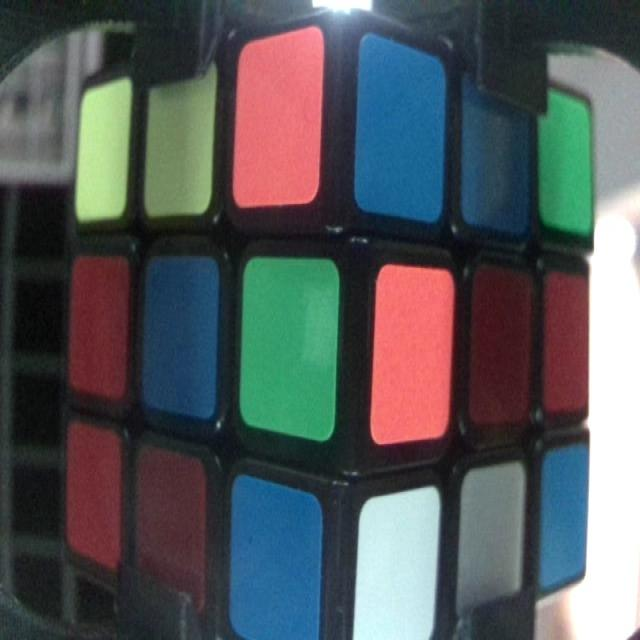b: (361, 40, 443, 223), (233, 478, 320, 639), (148, 256, 218, 414), (463, 74, 527, 224), (545, 455, 590, 581)
g: (242, 264, 335, 436), (541, 96, 592, 230)
o: (238, 41, 316, 206), (378, 269, 451, 441)
r: (472, 271, 533, 423), (141, 449, 201, 603), (72, 255, 128, 396), (67, 424, 118, 566), (542, 269, 592, 409)
w: (361, 500, 438, 640), (458, 470, 524, 611)
y: (148, 71, 212, 218), (81, 85, 132, 221)
